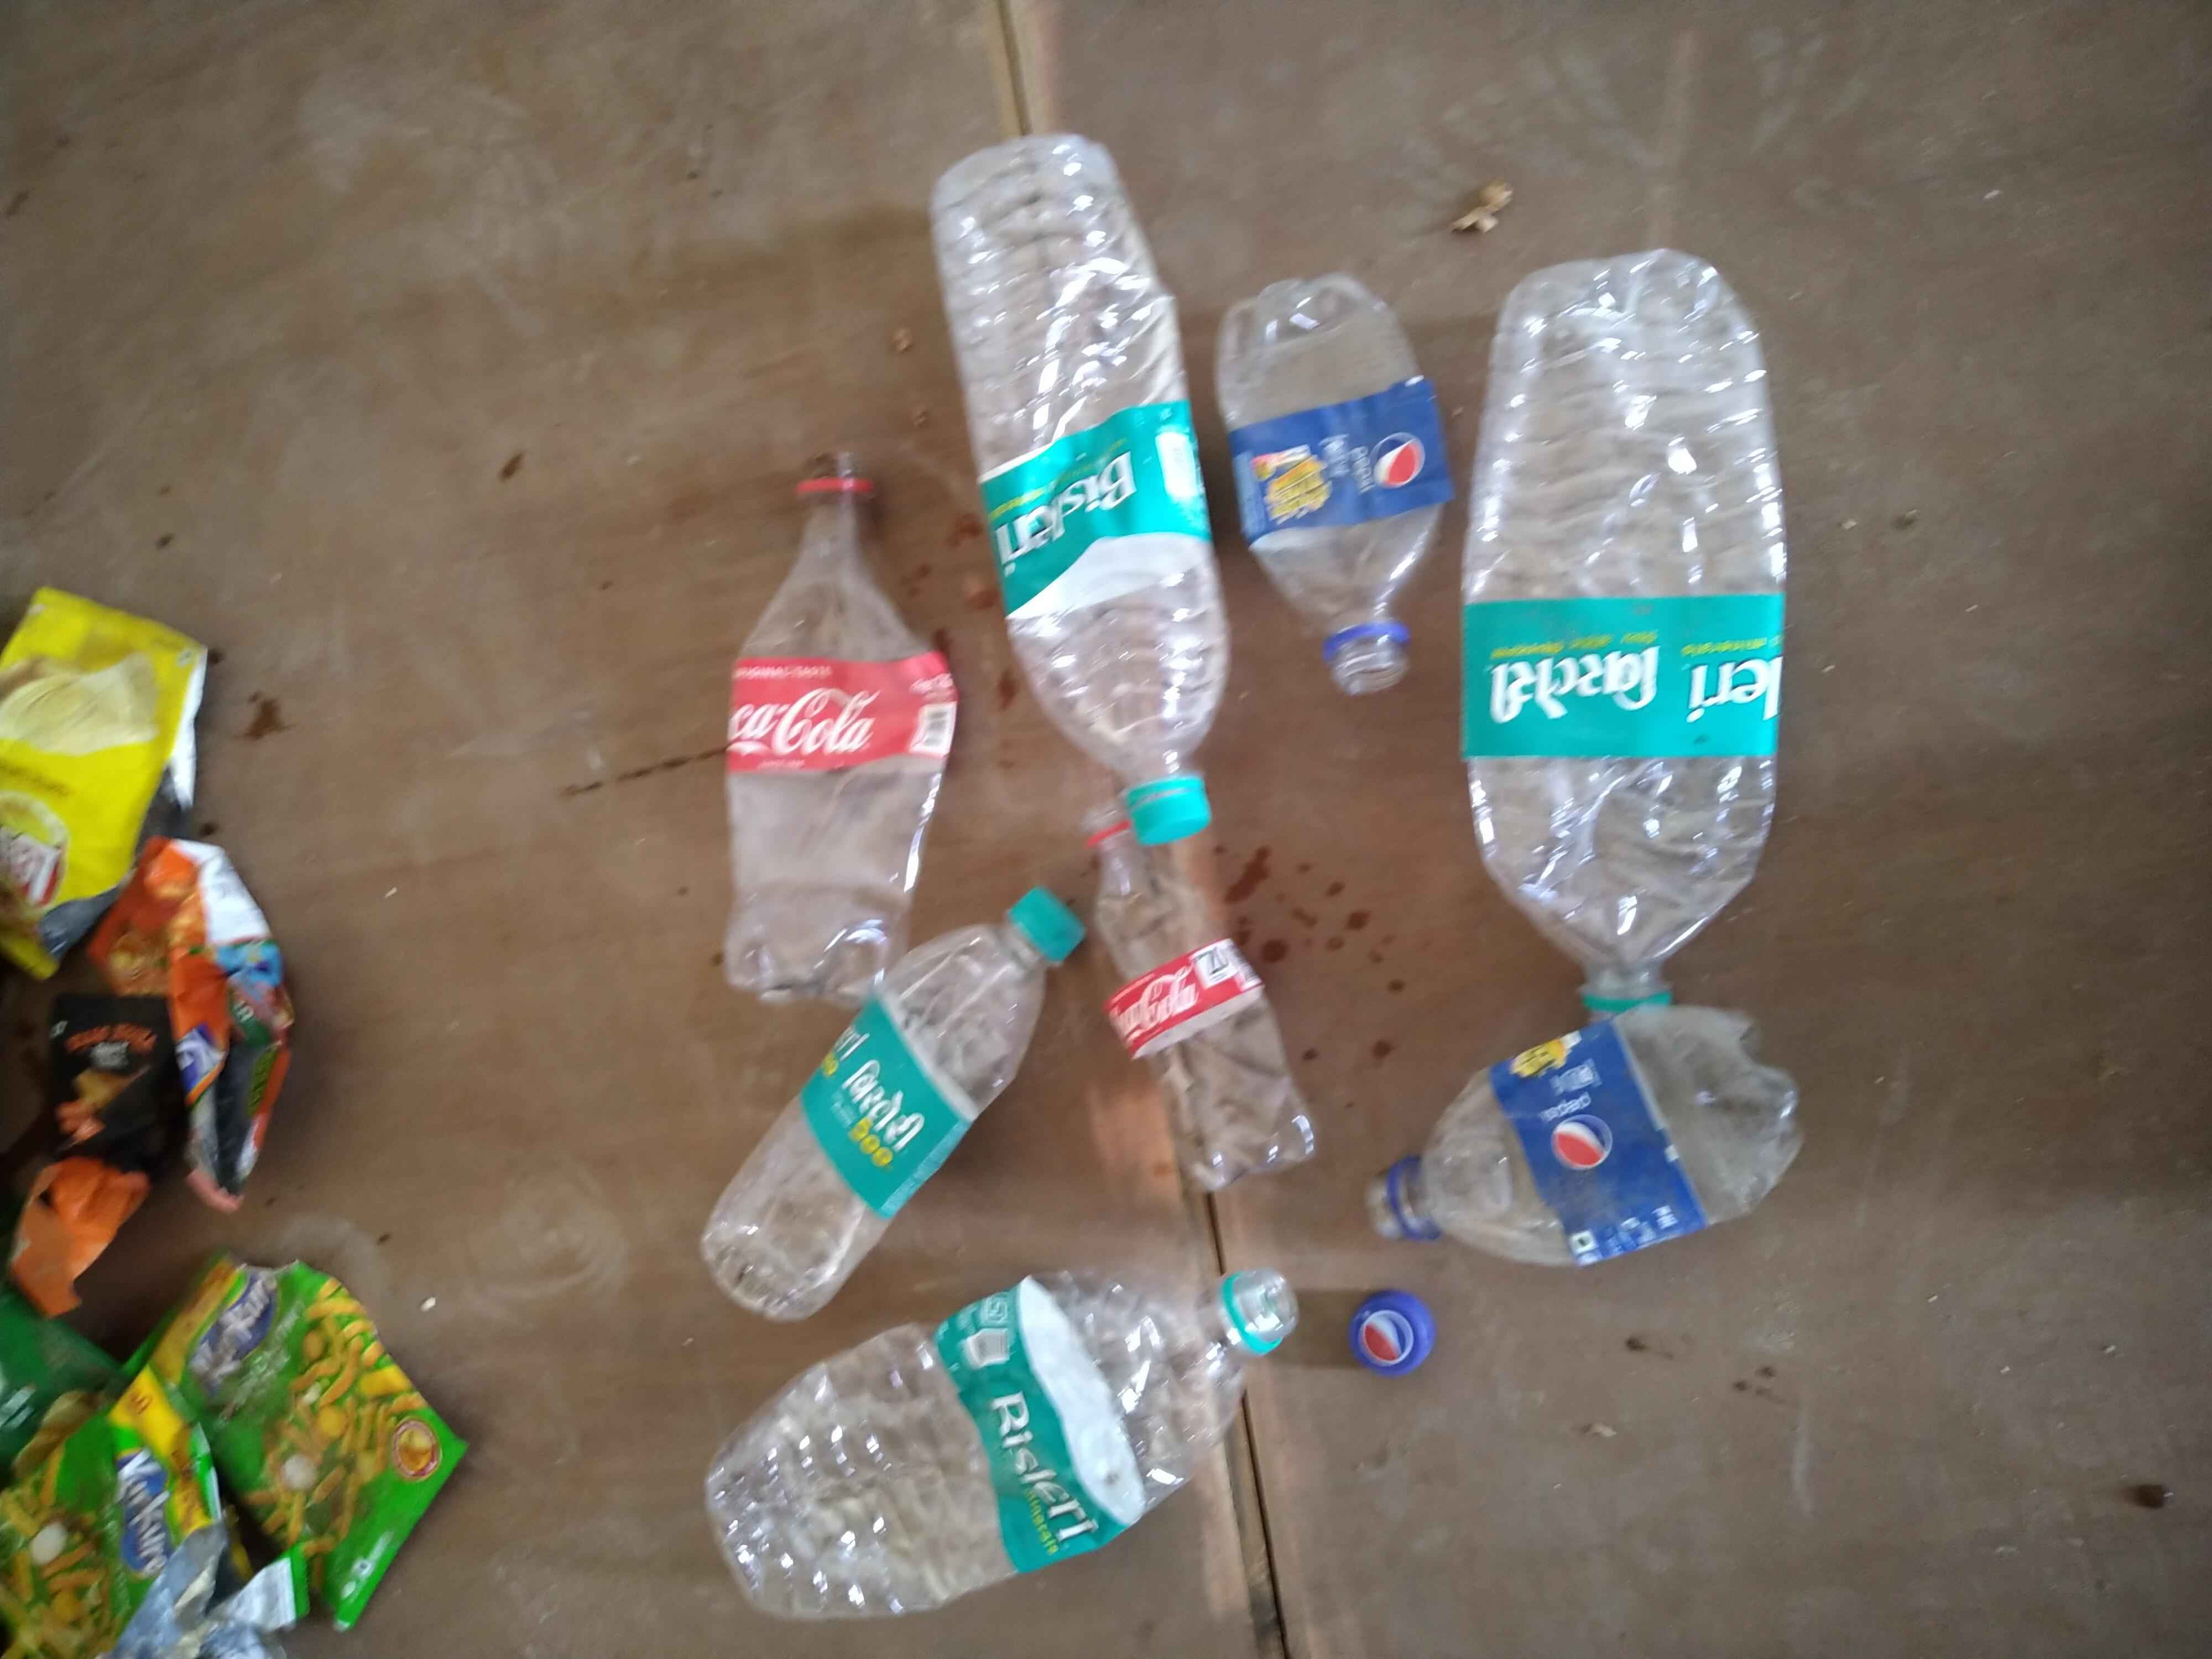Bisleri: (1475, 599, 1785, 753), (975, 1344, 1129, 1551), (1000, 436, 1148, 610), (813, 993, 949, 1180)
Coca-Cola: (725, 655, 946, 755), (1089, 971, 1261, 1030)
Lays: (0, 807, 92, 913)
kurkure: (172, 1265, 284, 1413), (122, 1445, 181, 1577), (172, 1016, 211, 1098)
pepsi: (1510, 1042, 1698, 1236), (1252, 406, 1425, 542), (1355, 1307, 1435, 1371)
